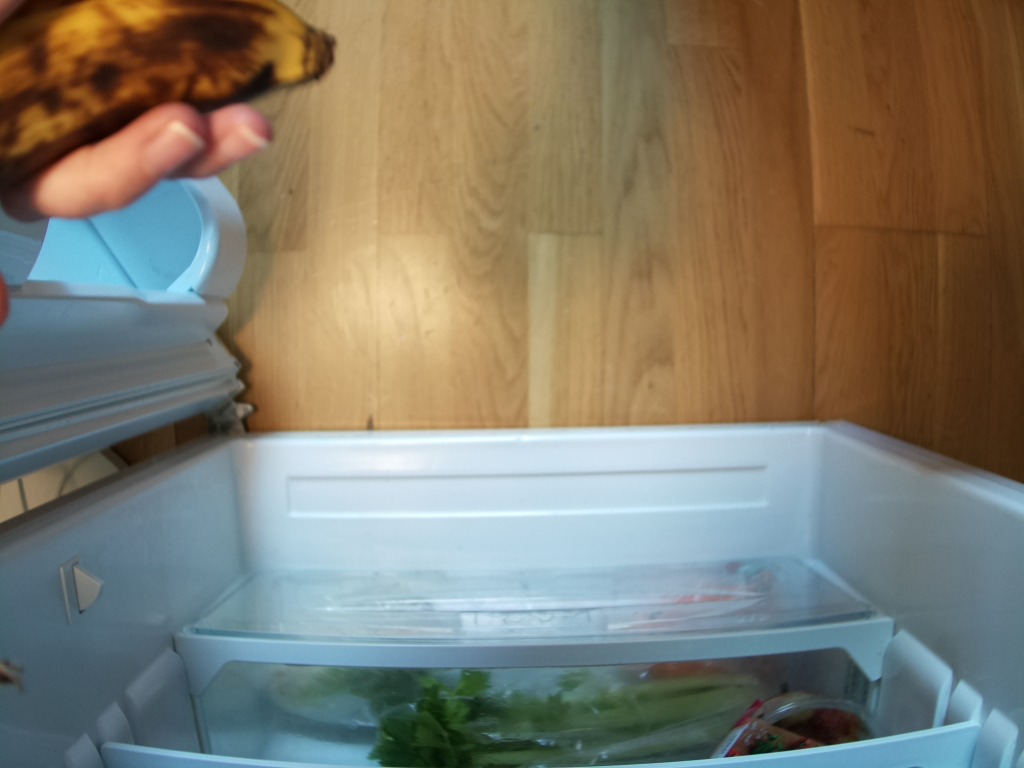banana-overripe: (1, 1, 336, 184)
